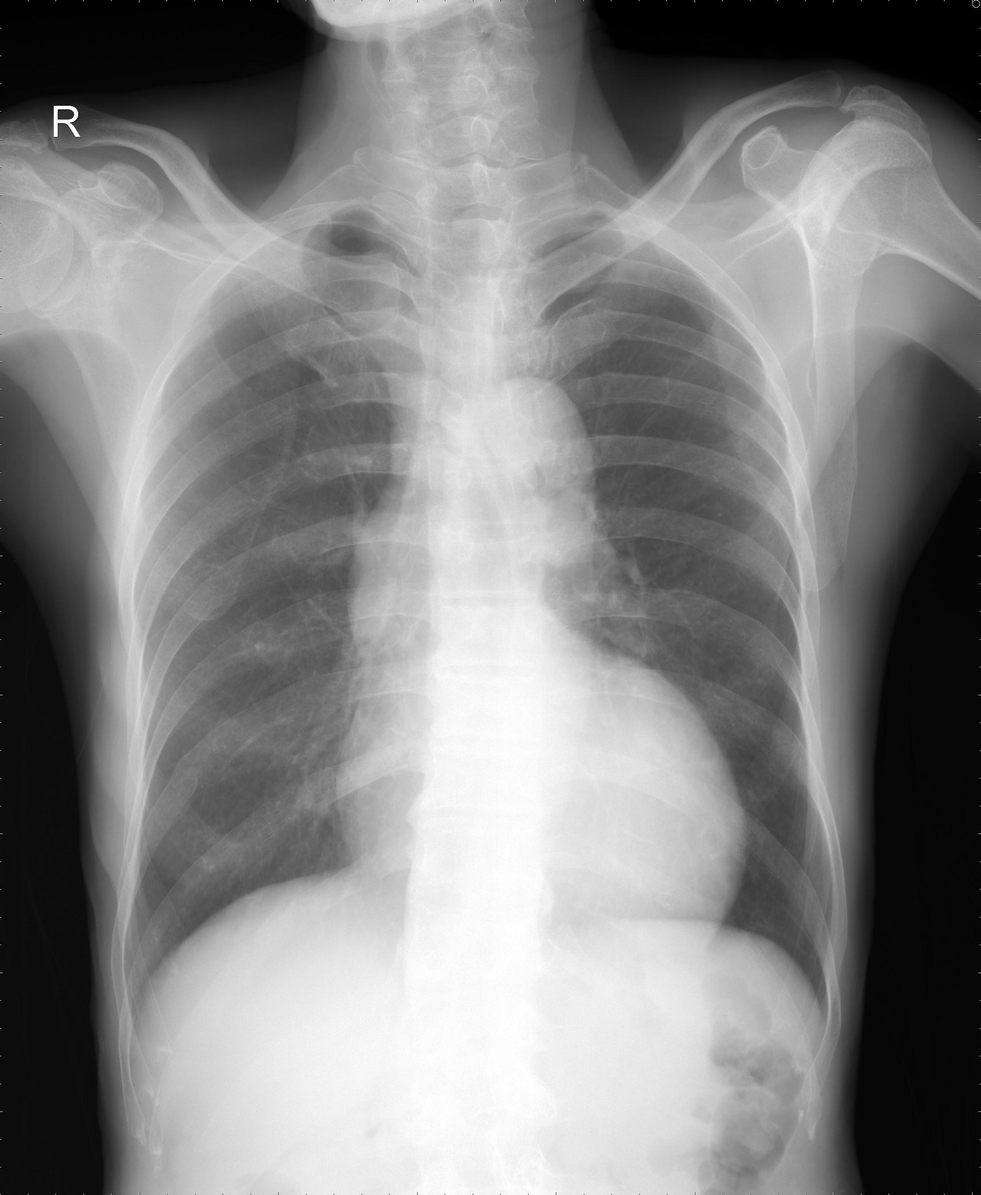Aortic enlargement: (462, 374, 602, 545)
Cardiomegaly: (332, 693, 749, 942)
